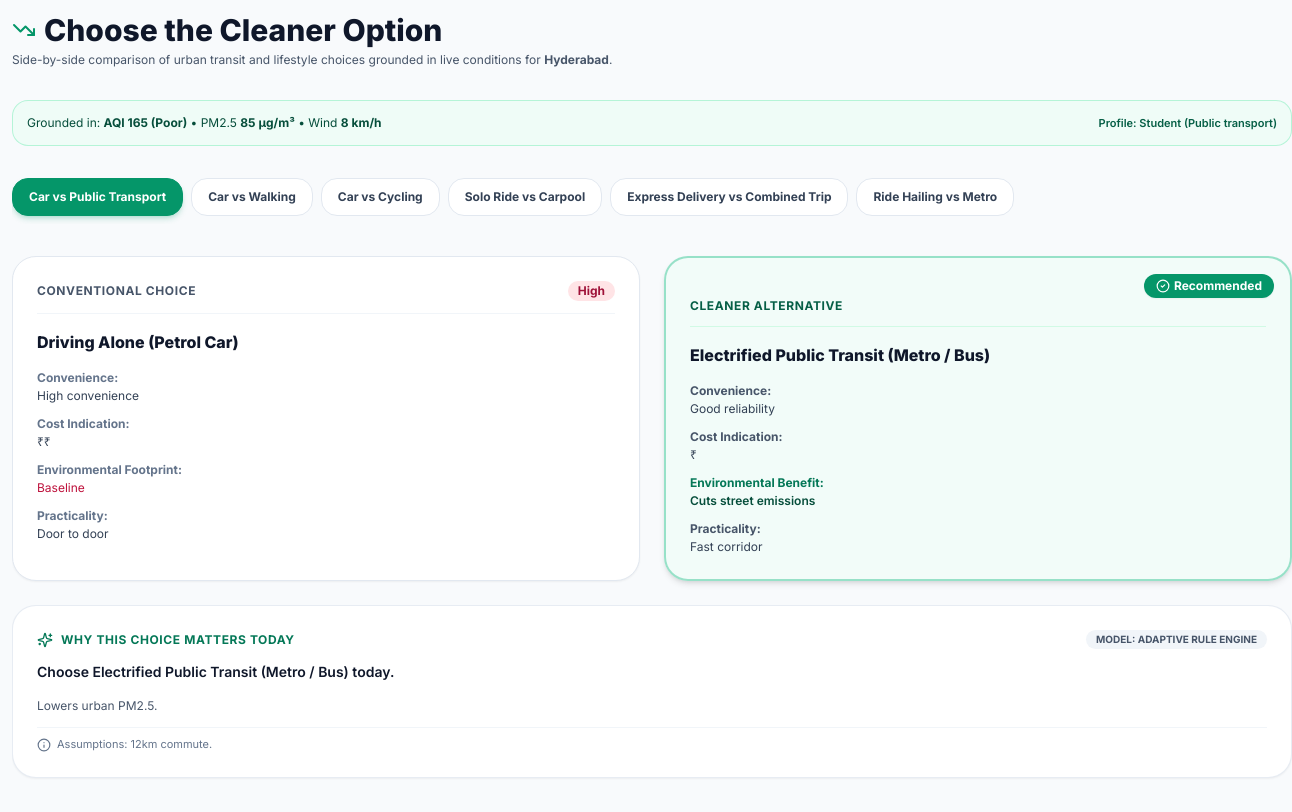
AirWise AI Frontend Application Tests › switches ComparatorPage presets and renders updated comparison
This screenshot has width=1292, height=812.
Expected: the text "Choose Electrified Public Transit (Metro / Bus) today." is shown, [37,663,394,680]
What coordinates should you click on to do the following:
click the button "Car vs Cycling"
I would click on:
 (380, 197)
Its box is [321,178,440,216].
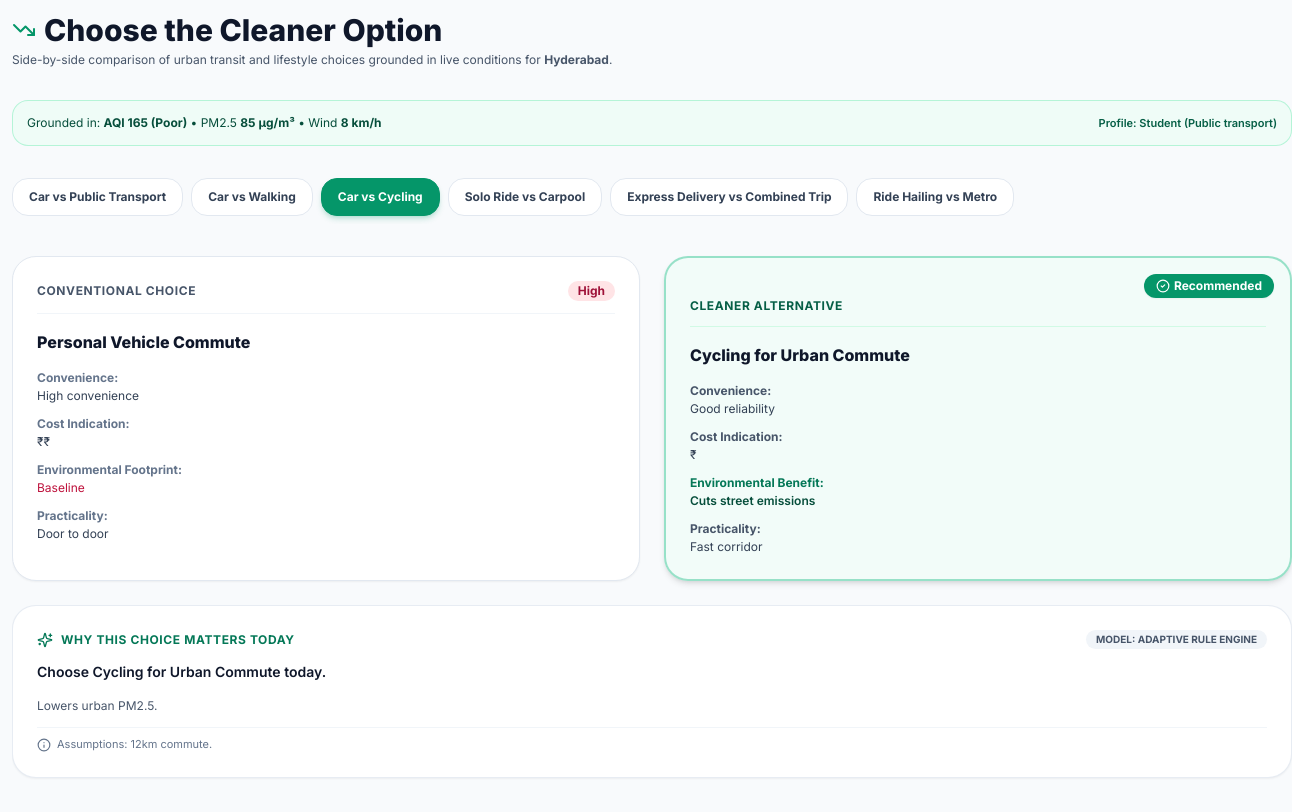
Expected: the text "Choose Cycling for Urban Commute today." is shown, [37,663,326,680]
